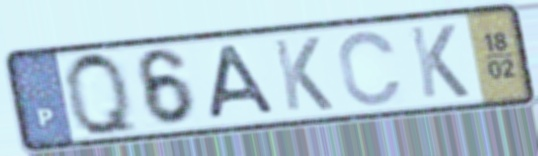6: (132, 45, 201, 130)
A: (205, 41, 280, 123)
C: (335, 28, 406, 109)
K: (405, 22, 473, 101), (269, 34, 336, 114)
Q: (60, 48, 145, 140)
